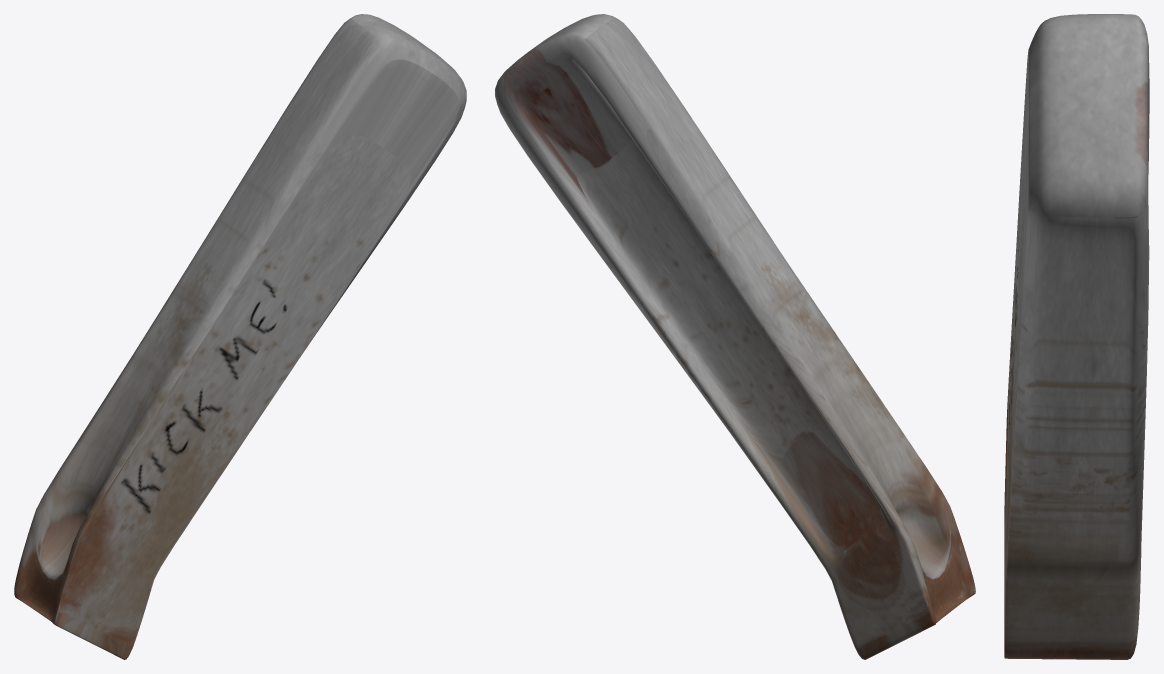
Rendered from perrorobot_musloder.glb.
3 renders of one model, left to right at view 1: azimuth 30°, elevation 25°; view 2: azimuth 150°, elevation 25°; view 3: azimuth 270°, elevation 25°, orthographic. The views are drawn at different scales.
Visible parts, largest first — view 1: pasted__pCube3_legmetal_0; view 2: pasted__pCube3_legmetal_0; view 3: pasted__pCube3_legmetal_0.
Part boxes in pixels (<box>): pasted__pCube3_legmetal_0: <box>14,14,466,659</box>; pasted__pCube3_legmetal_0: <box>495,14,975,659</box>; pasted__pCube3_legmetal_0: <box>1004,14,1149,659</box>.
Size of the model in its own units: 0.3681 by 0.4496 by 0.0697.
1 material, 1 textured.
